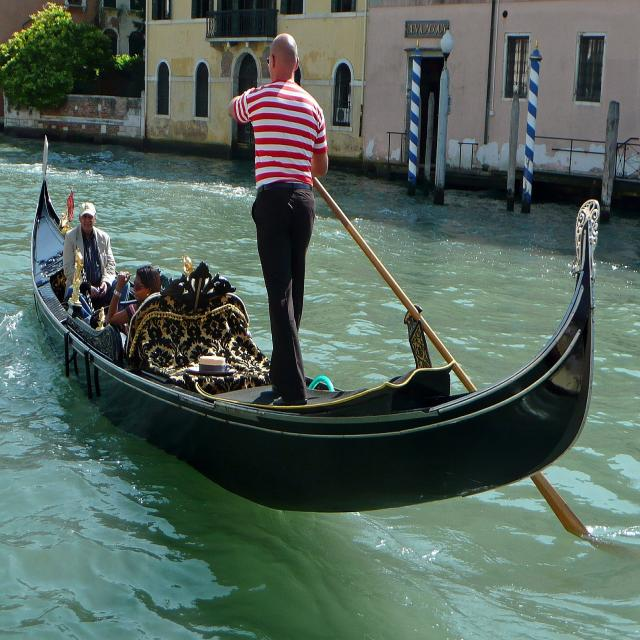boat: (26, 114, 623, 521)
